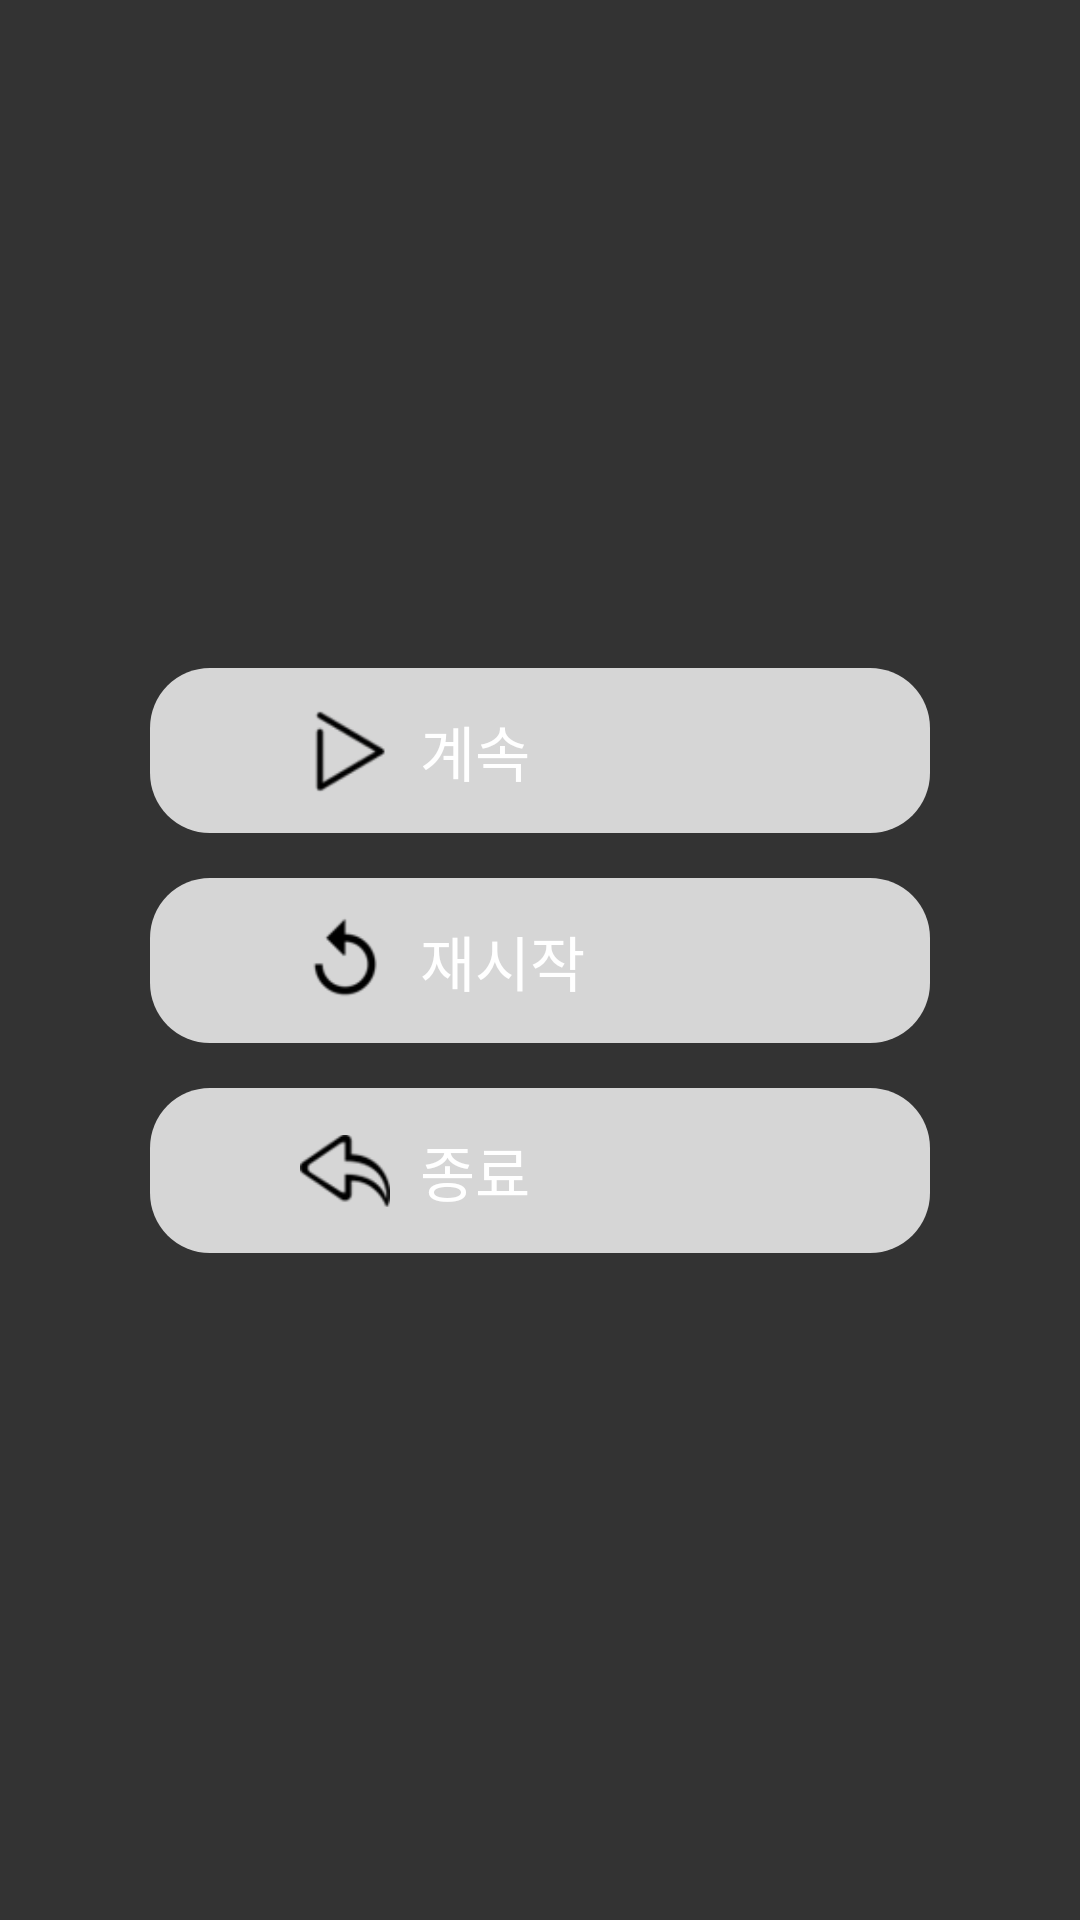

Where to tap for icons on this 1080px×1920px app screen, as point (x, y):
play: point (350, 751)
restart: point (345, 957)
return: point (345, 1171)
